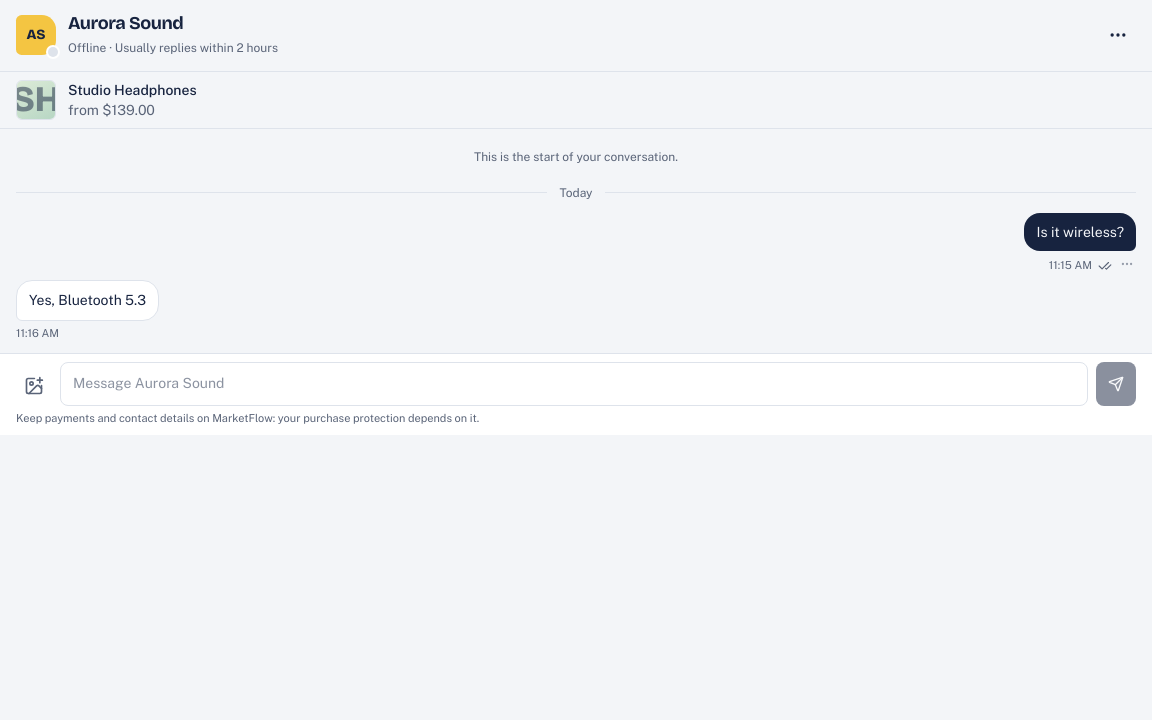
Test case: chat window › falls back to HTTP with the same client id when the socket is down
Check: the text "Yes, Bluetooth 5.3" is shown, box x1=16 y1=280 x2=159 y2=321
In the text box with placeholder "Message Aurora Sound": {"x": 574, "y": 384} x1=60 y1=362 x2=1088 y2=406, type "Hello?"
Then press Enter
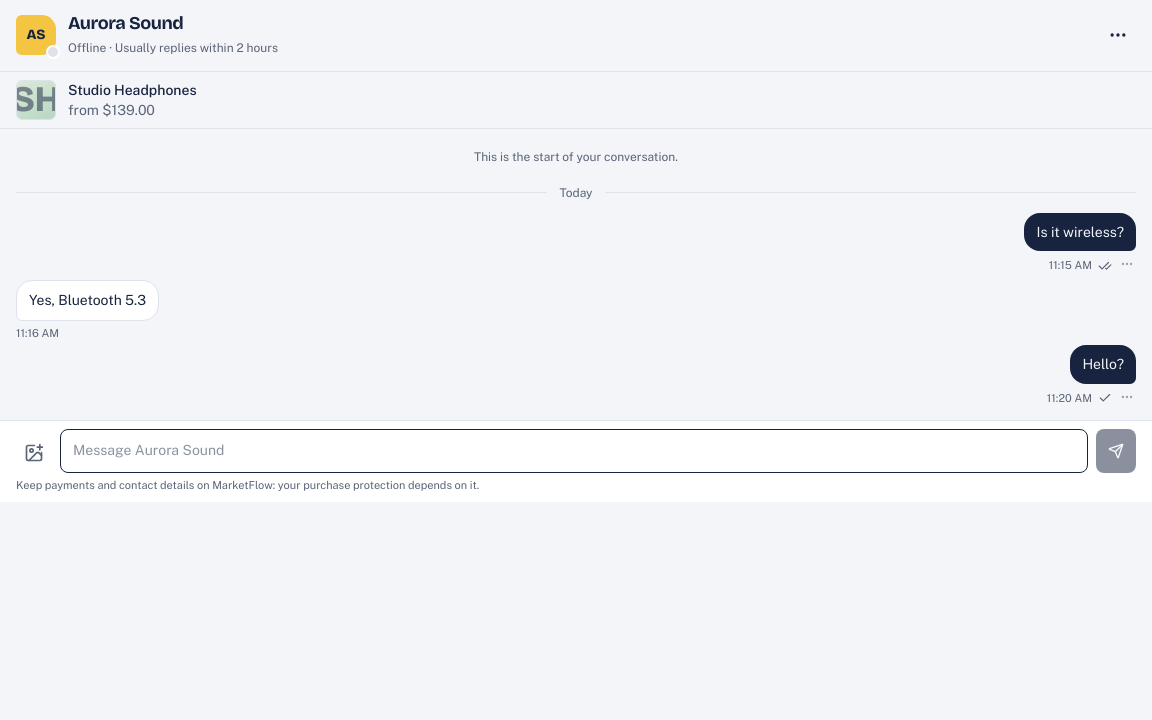
Check: the text "Hello?" is shown, box x1=1070 y1=345 x2=1136 y2=384
